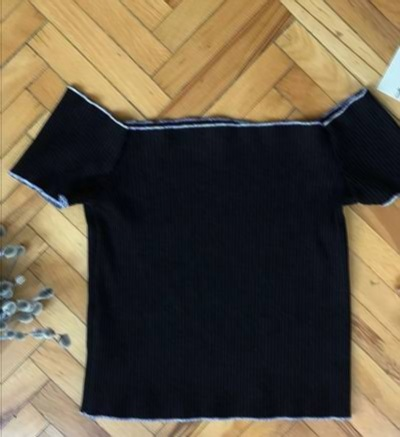Blouse: (22, 47, 398, 426)
